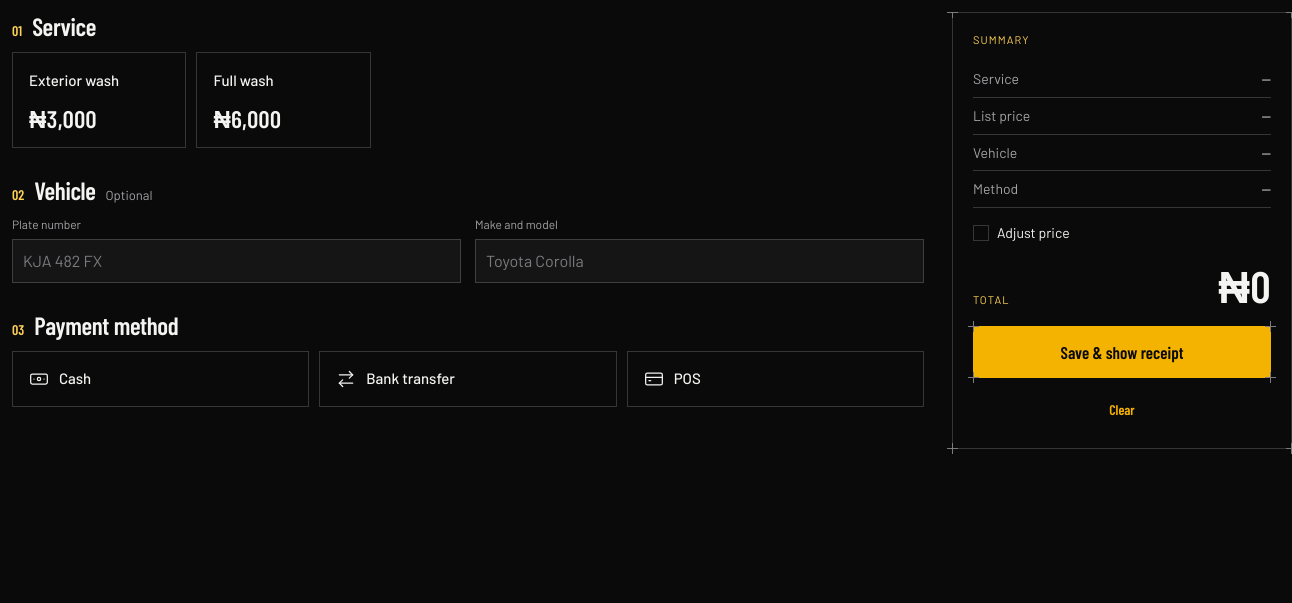
Test: NewTransactionForm › shows the API's message mapped to the prototype's copy
Click the button "Full wash ₦6,000" at (284, 100), box [196, 52, 371, 148]
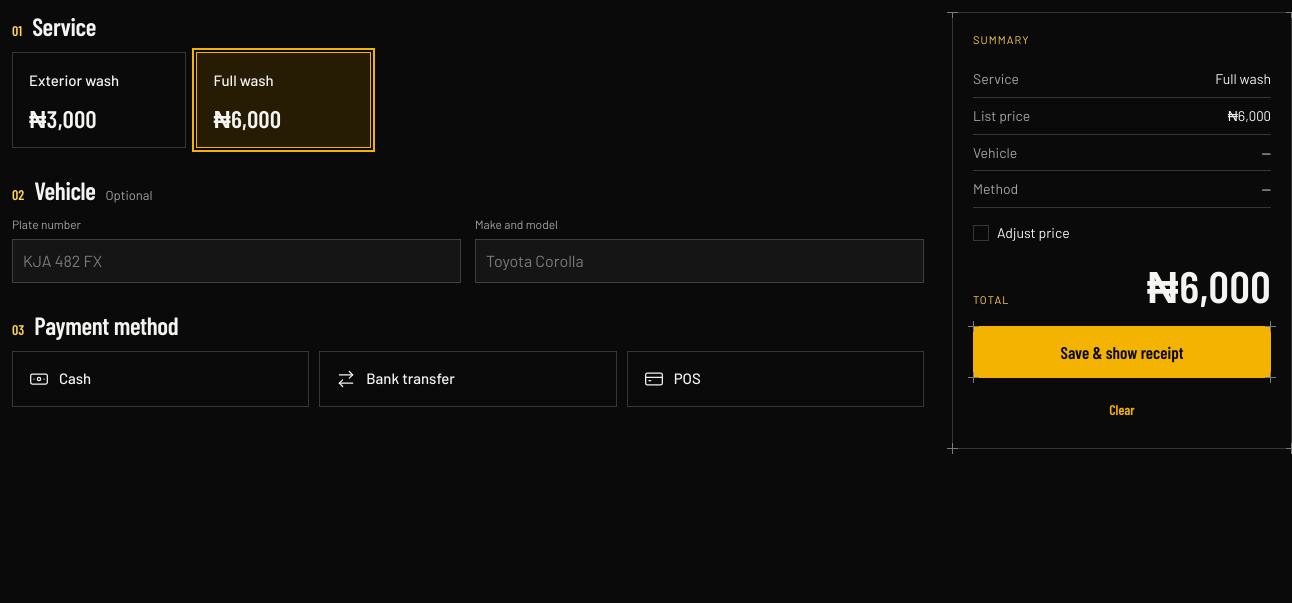
Click the button "Bank transfer" at (411, 378), box [319, 351, 617, 407]
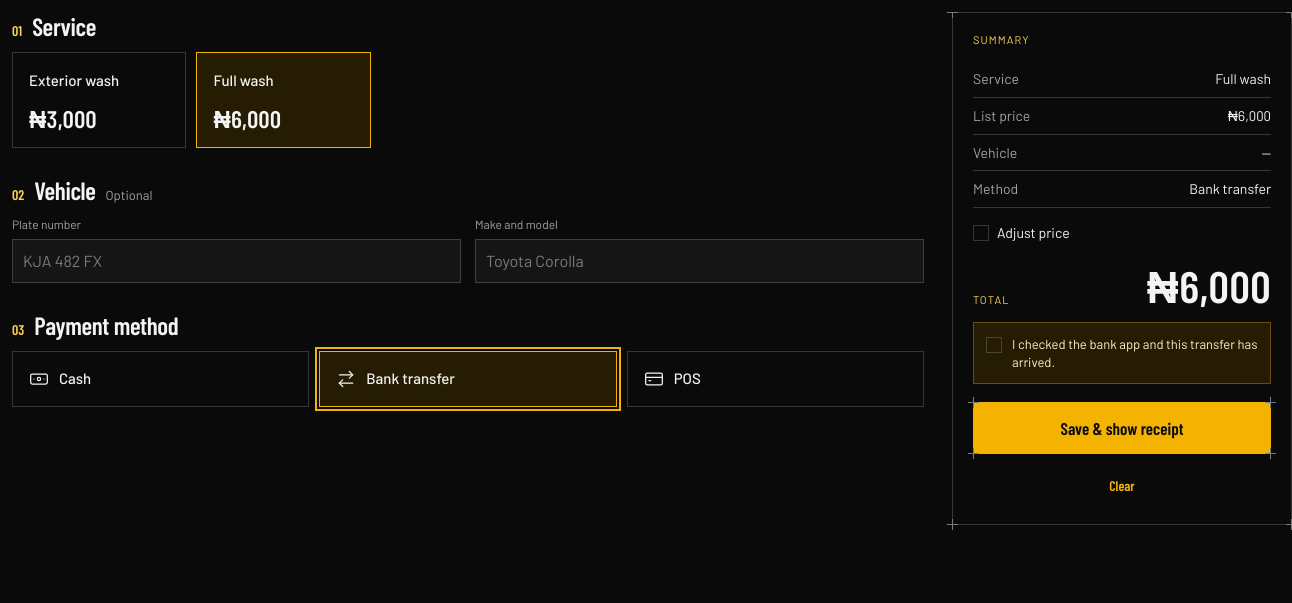
Click the checkbox labelled "I checked the bank app and this transfer has arrived." at (994, 345), box [986, 337, 1002, 353]
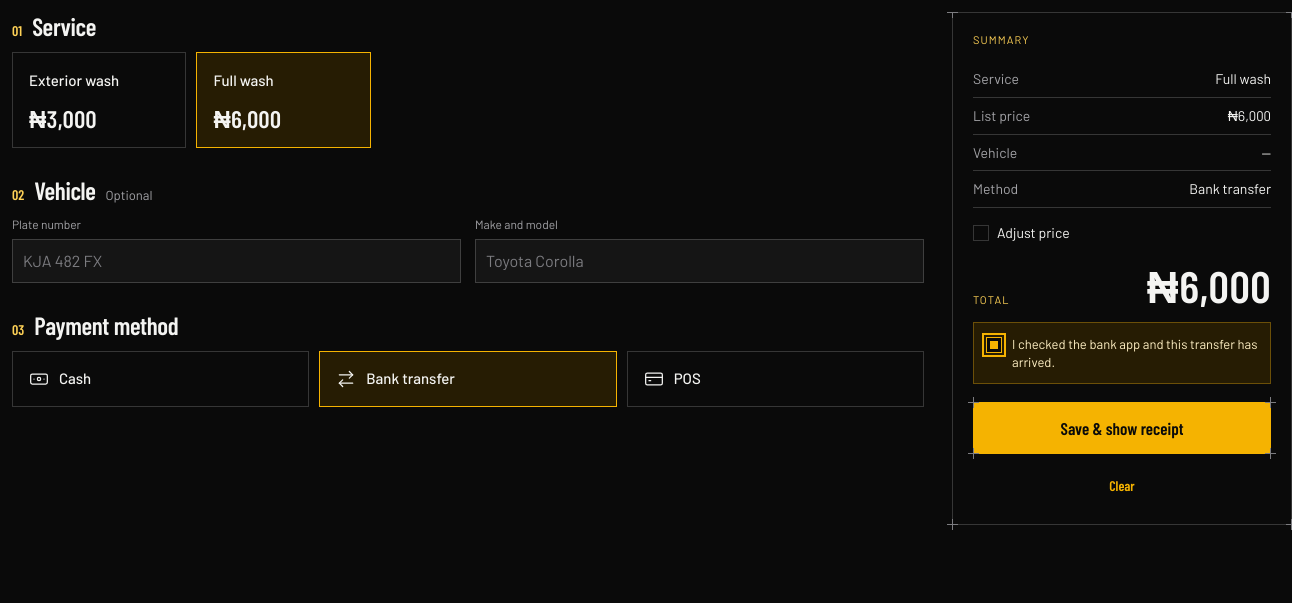
Click the button "Save & show receipt" at (1122, 428), box [973, 402, 1271, 454]
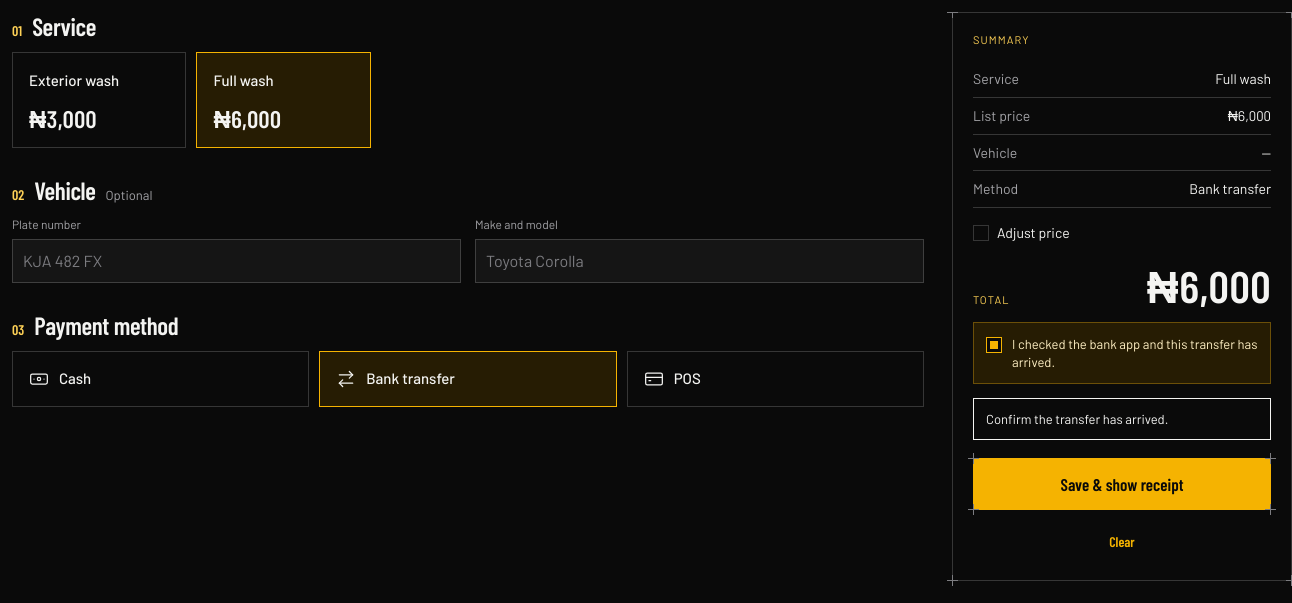
Now the message reads "Confirm the transfer has arrived.", box [986, 411, 1168, 427]
